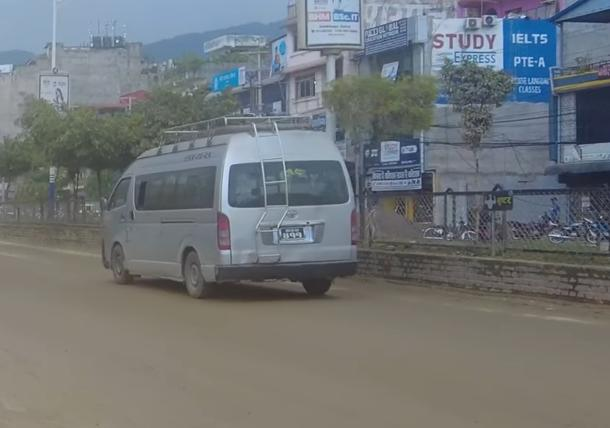micro_bus: (96, 123, 362, 304)
